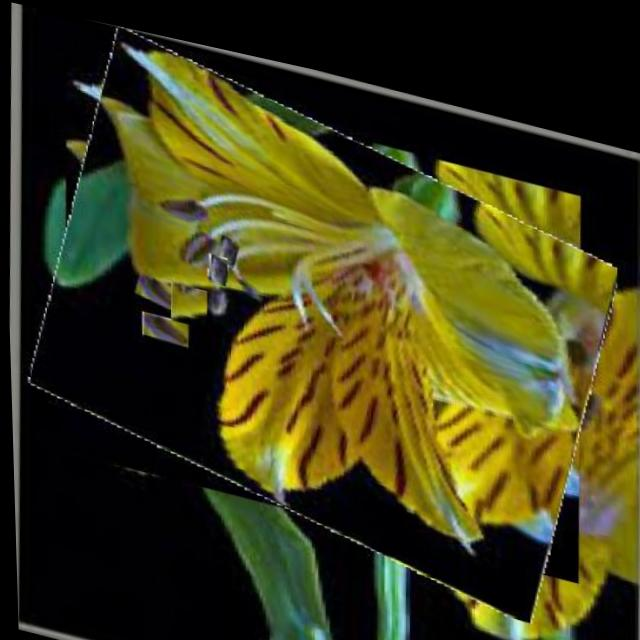Flower: (32, 28, 611, 592), (167, 274, 208, 322), (139, 305, 188, 342), (206, 244, 229, 278)
